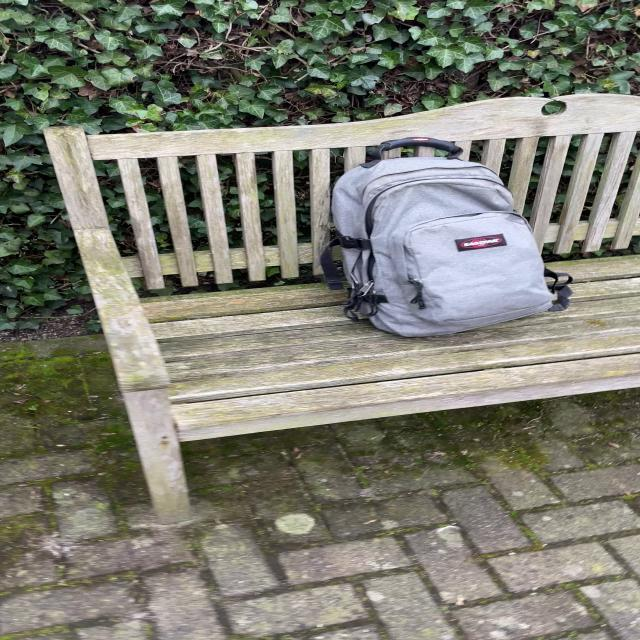backpack: (316, 132, 568, 340)
